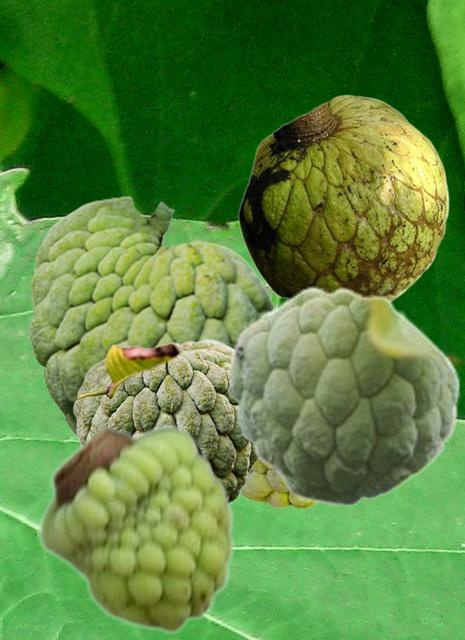atis: (29, 195, 276, 440), (226, 286, 461, 505), (237, 94, 448, 300), (38, 422, 235, 635), (72, 338, 258, 503), (241, 462, 318, 507)
